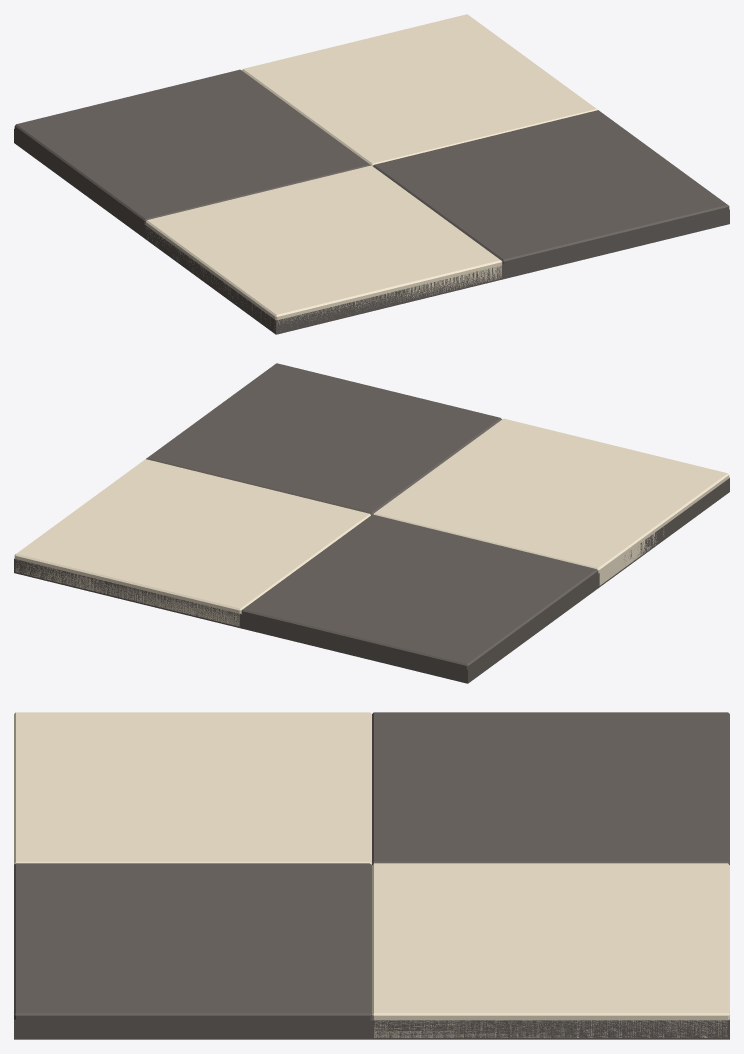
File: PR_Building_Zemin_Dama.fbx
The picture shows the model from 3 angles, top to bottom: view 1: azimuth 30°, elevation 25°; view 2: azimuth 150°, elevation 25°; view 3: azimuth 270°, elevation 25°; orthographic projection. The views are drawn at different scales.
Visible parts, largest first — view 1: PR_Building_Zemin_Dama; view 2: PR_Building_Zemin_Dama; view 3: PR_Building_Zemin_Dama.
Boxes of the visible parts, x1,y1,x2,y2 form: PR_Building_Zemin_Dama: [14, 14, 729, 334]; PR_Building_Zemin_Dama: [14, 363, 729, 683]; PR_Building_Zemin_Dama: [14, 712, 729, 1039].
Size of the model in its own units: 1 by 0.04 by 1.
